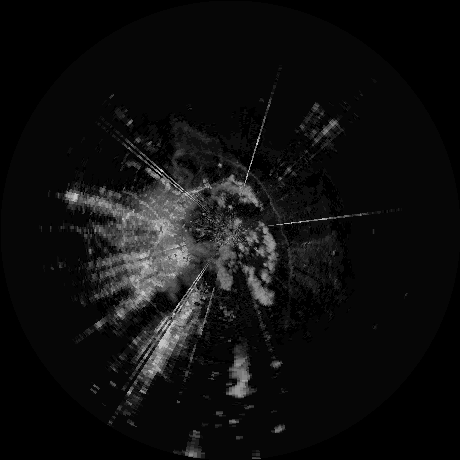frontgust: (207, 152, 295, 284)
